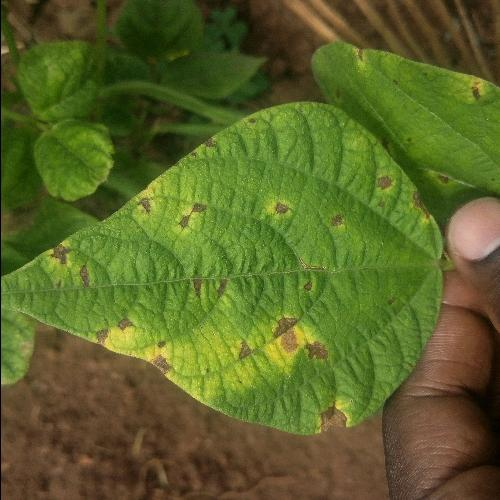hawar: (260, 276, 328, 376), (300, 397, 352, 444), (169, 199, 208, 240), (250, 196, 295, 231), (188, 268, 233, 302), (37, 234, 72, 270), (88, 319, 132, 347), (69, 256, 96, 291), (149, 337, 167, 374), (365, 173, 392, 197), (130, 190, 152, 219), (193, 134, 220, 157), (320, 207, 344, 231), (410, 191, 422, 222), (244, 115, 259, 126)
mozaik: (156, 254, 237, 426), (351, 262, 426, 397), (268, 103, 358, 186)
